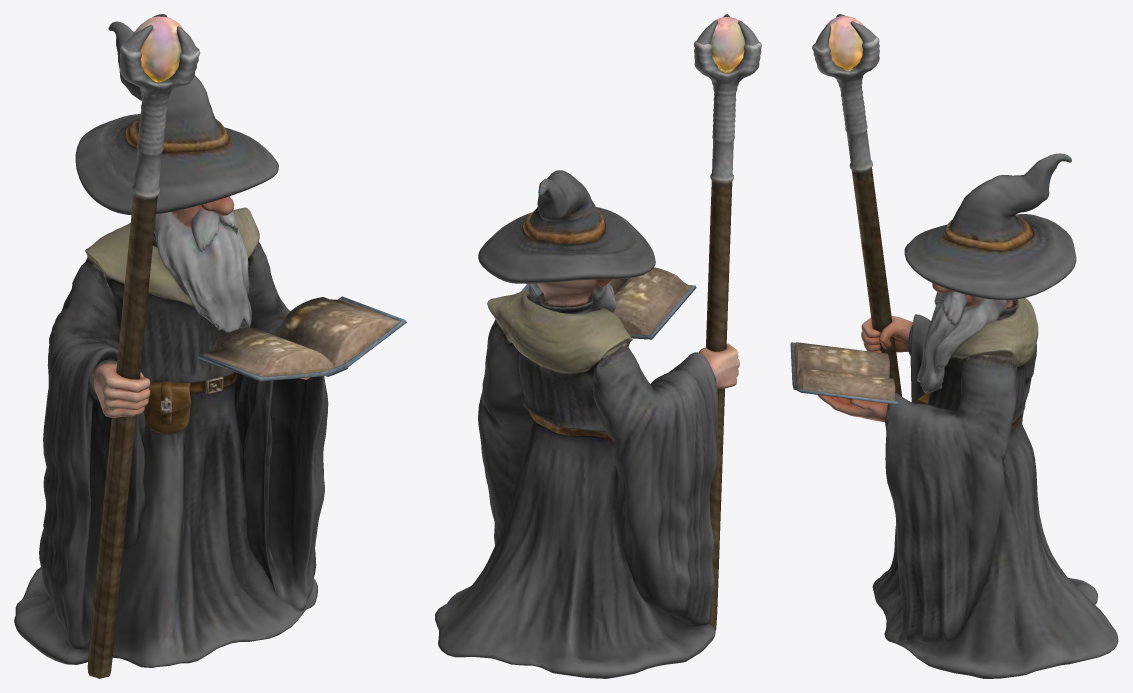
Rendered from MZ4250 - Gnome Male Wizard 2_1.glb.
3 views of the same model, side by side, from view 1: azimuth 30°, elevation 25°; view 2: azimuth 150°, elevation 25°; view 3: azimuth 270°, elevation 25° (orthographic). The views are drawn at different scales.
Parts seen in each view (by area): view 1: Mindflayer Infiltrator.002; view 2: Mindflayer Infiltrator.002; view 3: Mindflayer Infiltrator.002.
Boxes of the visible parts, x1,y1,x2,y2 form: Mindflayer Infiltrator.002: [14, 14, 406, 678]; Mindflayer Infiltrator.002: [435, 14, 761, 678]; Mindflayer Infiltrator.002: [790, 14, 1118, 678].
Bounding box in the file's own units: 29.22 × 68.16 × 35.34.
Materials: 1 (1 with a texture image).
